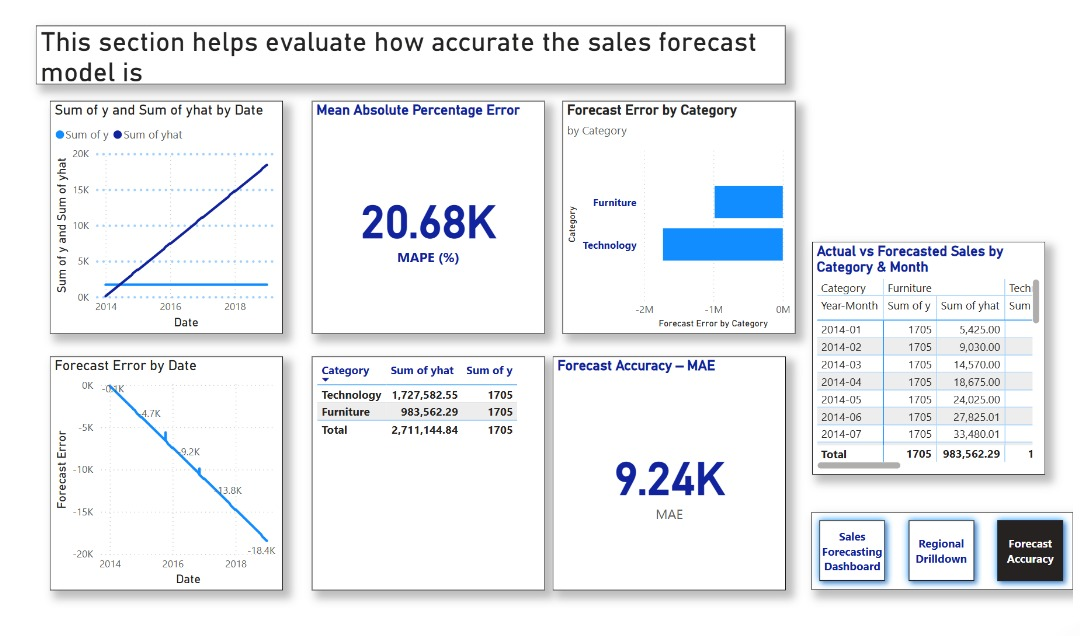

The page's visual inventory and layout, read from the dashboard file:
{"tool":"powerbi","page":{"name":"Forecast Accuracy","canvas":[1280,720],"ordinal":2},"visuals":[{"type":"lineChart","fields":{"Y":["Sum(processed_superstore_sales.y)","Sum(superstore_forecast_components.yhat)"],"Category":["DateTable.Date"]},"box":[50.4,110,279.7,279.7],"z":0},{"type":"lineChart","fields":{"Category":["DateTable.Date"],"Y":["superstore_forecast_components.Forecast Error"]},"box":[50.4,417.8,279.7,281.6],"z":1000},{"type":"card","title":"Mean Absolute Percentage Error","fields":{"Values":["superstore_forecast_components.MAPE (%)"]},"box":[365.5,110,279.7,279.7],"z":2000},{"type":"tableEx","fields":{"Values":["category_forecasts.Category","Sum(category_forecasts.yhat)","Sum(processed_superstore_sales.y)"]},"box":[365.5,417.8,279.7,281.6],"z":3000},{"type":"clusteredBarChart","fields":{"Category":["category_forecasts.Category"],"Y":["category_forecasts.Forecast Error by Category"]},"box":[665.8,110,279.7,279.7],"z":4000},{"type":"card","title":"Forecast Accuracy – MAE","fields":{"Values":["superstore_forecast_components.MAE"]},"box":[654.6,417.8,279.7,281.6],"z":5000},{"type":"pivotTable","title":"Actual vs Forecasted Sales by Category & Month","fields":{"Rows":["DateTable.Year-Month"],"Columns":["category_forecasts.Category"],"Values":["Sum(processed_superstore_sales.y)","Sum(category_forecasts.yhat)"]},"box":[966.1,279.7,279.7,279.7],"z":6000},{"type":"textbox","title":"This section helps evaluate how accurate the sales forecast model is","box":[33.6,20.5,900.8,70.9],"z":6001}]}

Visuals, with their boxes in screenshot pixels (x1, y1, x2, y2):
lineChart - Sum(processed_superstore_sales.y) x Sum(superstore_forecast_components.yhat): box=[48, 97, 280, 330]
lineChart - DateTable.Date x superstore_forecast_components.Forecast Error: box=[48, 353, 280, 588]
"Mean Absolute Percentage Error" card: box=[310, 97, 542, 330]
tableEx - category_forecasts.Category x Sum(category_forecasts.yhat): box=[310, 353, 542, 588]
clusteredBarChart - category_forecasts.Category x category_forecasts.Forecast Error by Category: box=[560, 97, 792, 330]
"Forecast Accuracy – MAE" card: box=[550, 353, 783, 588]
"Actual vs Forecasted Sales by Category & Month" pivotTable: box=[810, 238, 1042, 471]
"This section helps evaluate how accurate the sales forecast model is" textbox: box=[34, 23, 783, 82]
